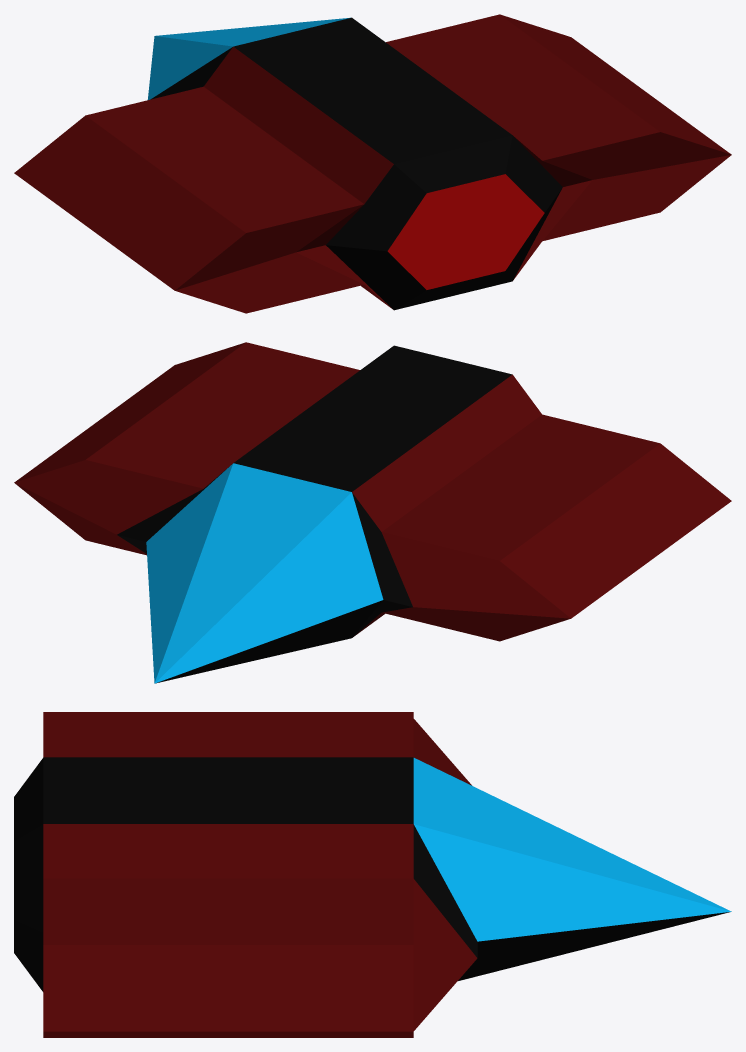
The model's file is Enemy1.fbx.
3 renders of one model, top to bottom at view 1: azimuth 30°, elevation 25°; view 2: azimuth 150°, elevation 25°; view 3: azimuth 270°, elevation 25°, orthographic. The views are drawn at different scales.
Visible parts, largest first — view 1: Cone; view 2: Cone; view 3: Cone.
Part boxes in pixels (x1,y1,x2,y2): Cone: (14, 14, 731, 313); Cone: (14, 342, 731, 683); Cone: (14, 712, 731, 1037).
Bounding box in the file's own units: 470 × 118 × 455.
